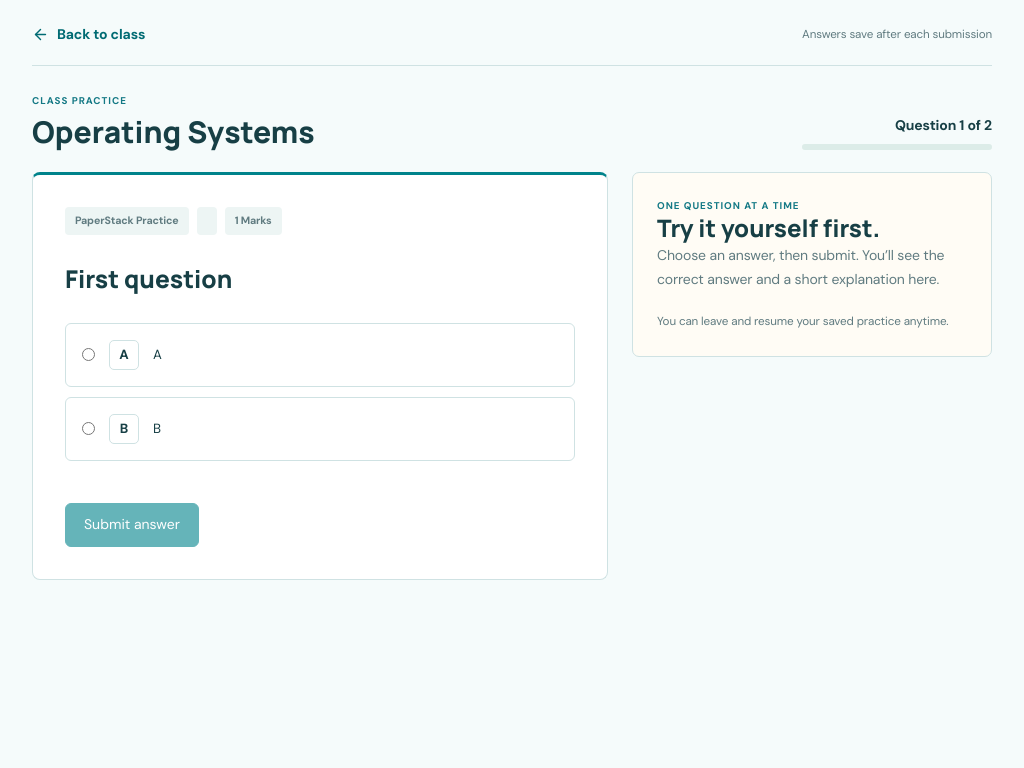
Test: retrying an answer after network failure uses the same attempt identity
This screenshot has width=1024, height=768.
Click the radio button labelled "A". click: x=88, y=355
box: [82,348,95,361]
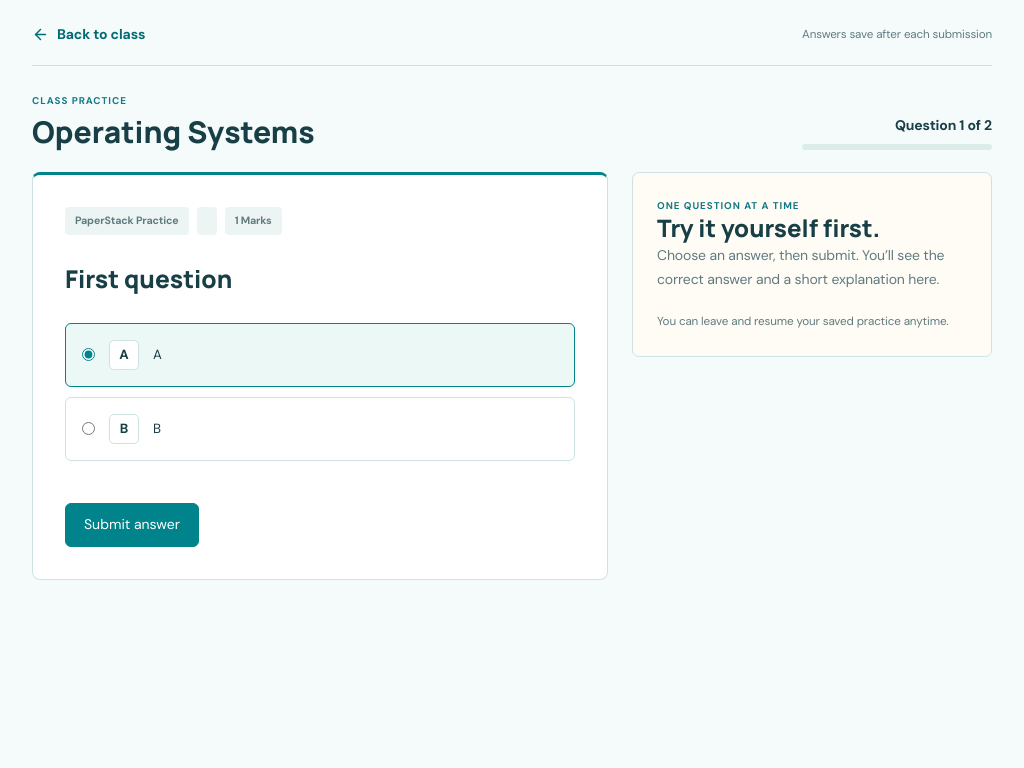
Click the button "Submit answer". click: x=132, y=525
box: [65,503,199,547]
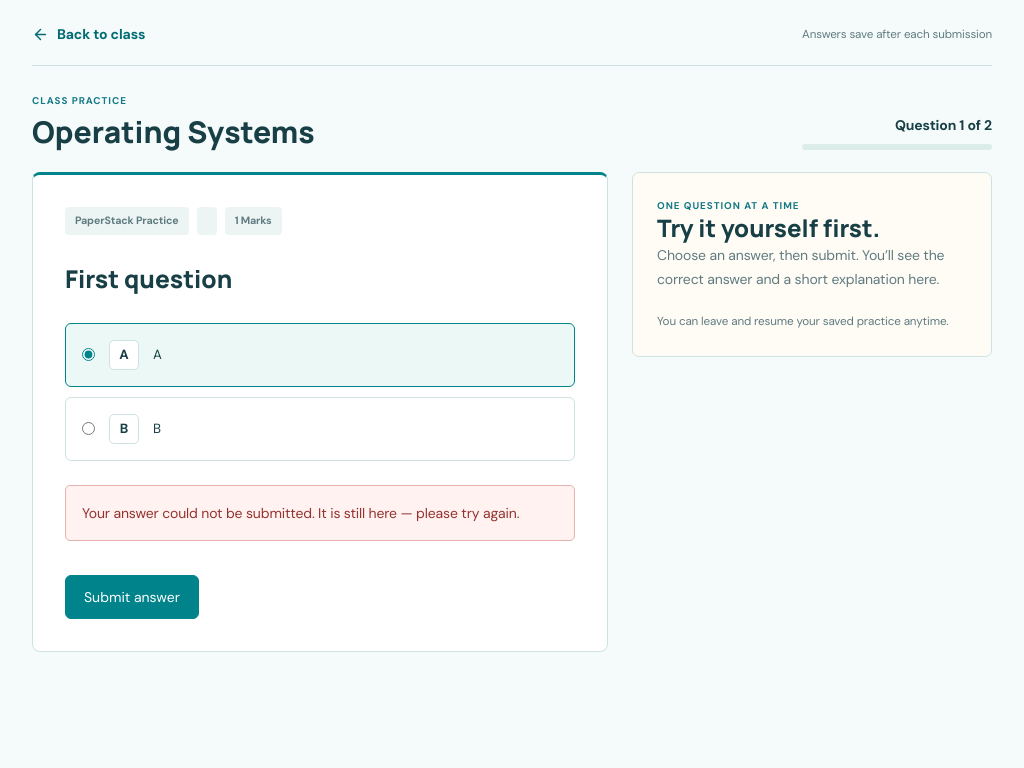
Expected: the button "Submit answer" is enabled
Click the button "Submit answer". click: x=132, y=597
box: [65,575,199,619]
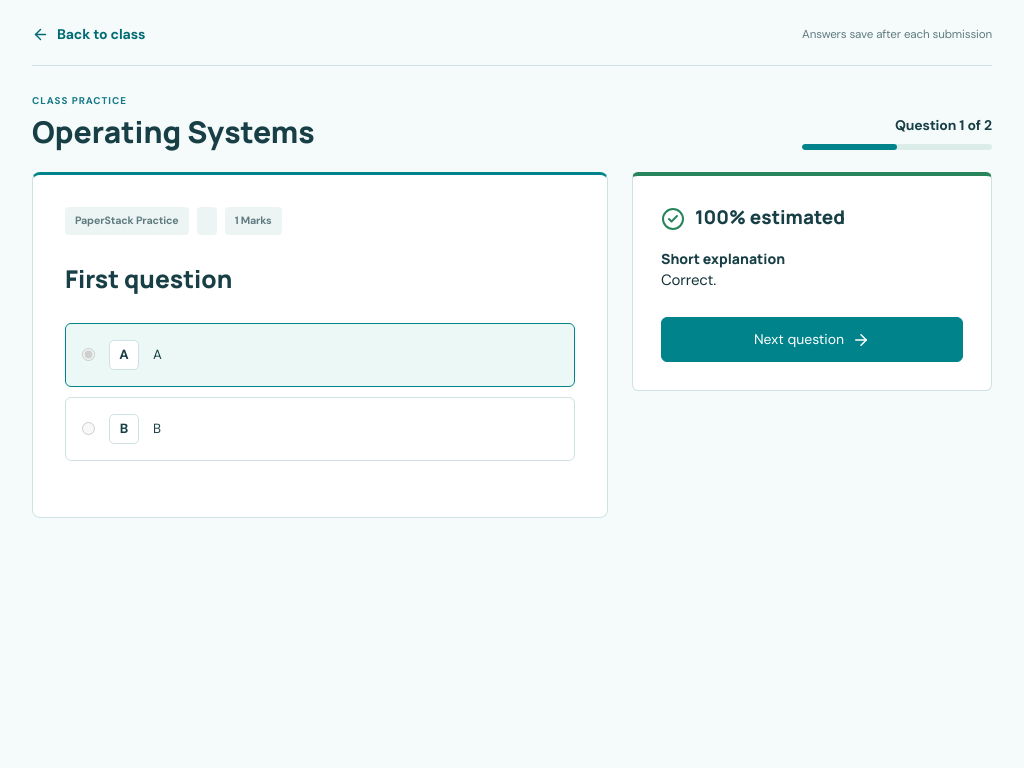
Expected: the text "Correct." is shown, [661,270,716,290]
Expected: the radio button labelled "A" is disabled, [82,348,95,361]
